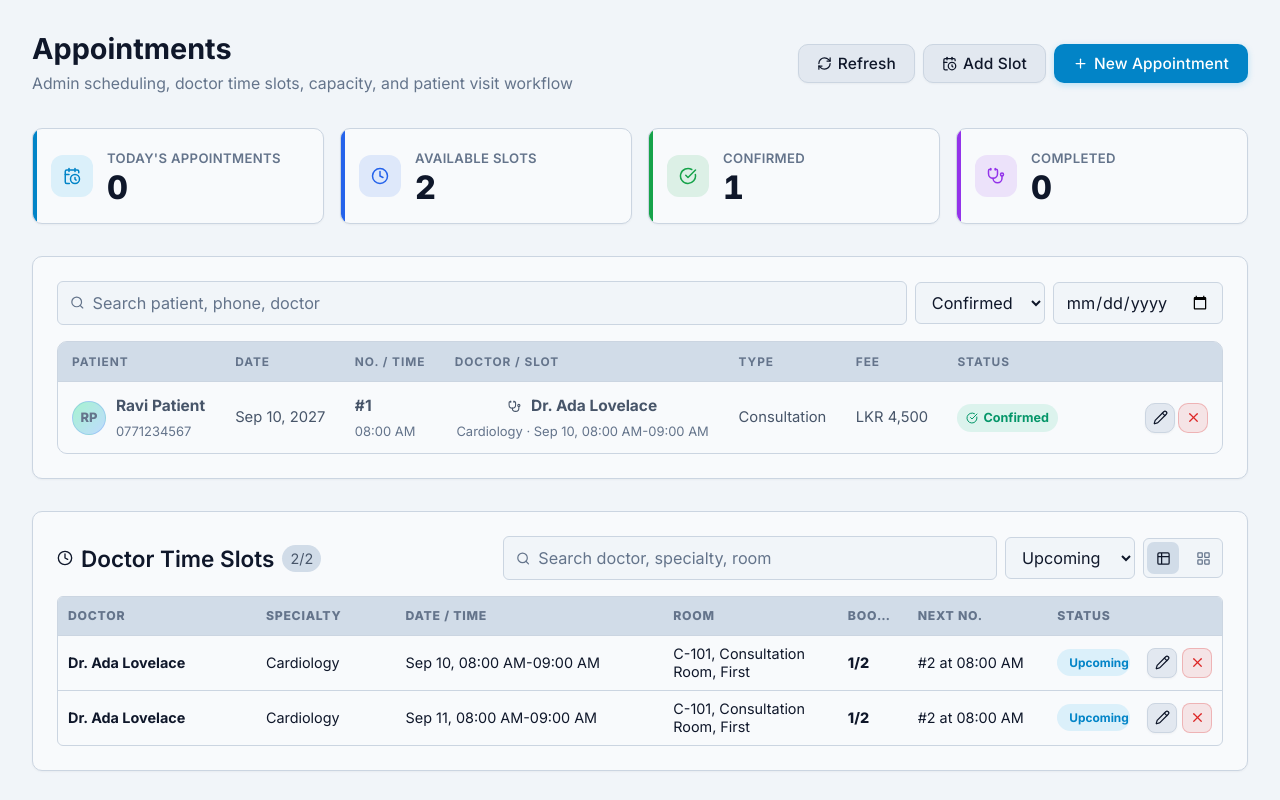
Test: AppointmentsPage › clears the selected session when the date changes
Click the button "New Appointment": (1151, 64) [1054,44,1248,83]
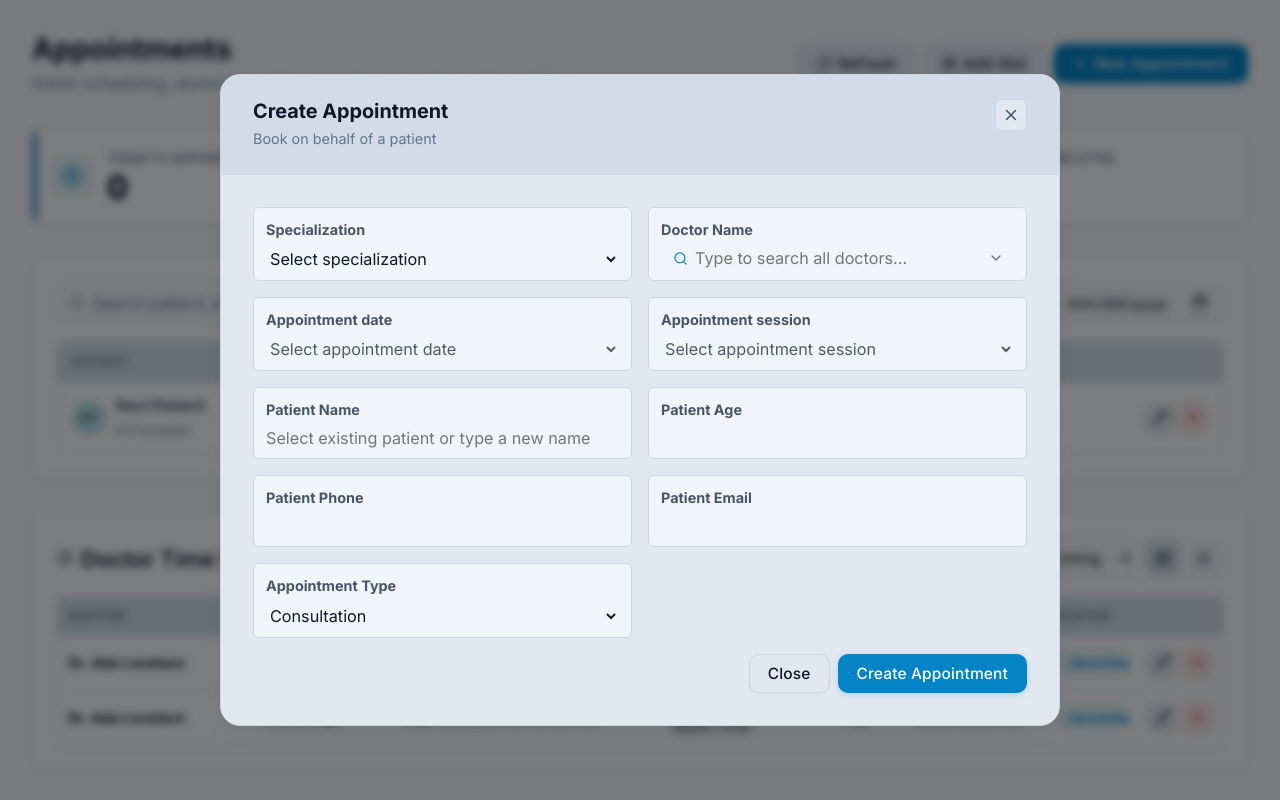
Select "Cardiology" in the dropdown labelled "Specialization": (442, 259) [266,248,619,270]
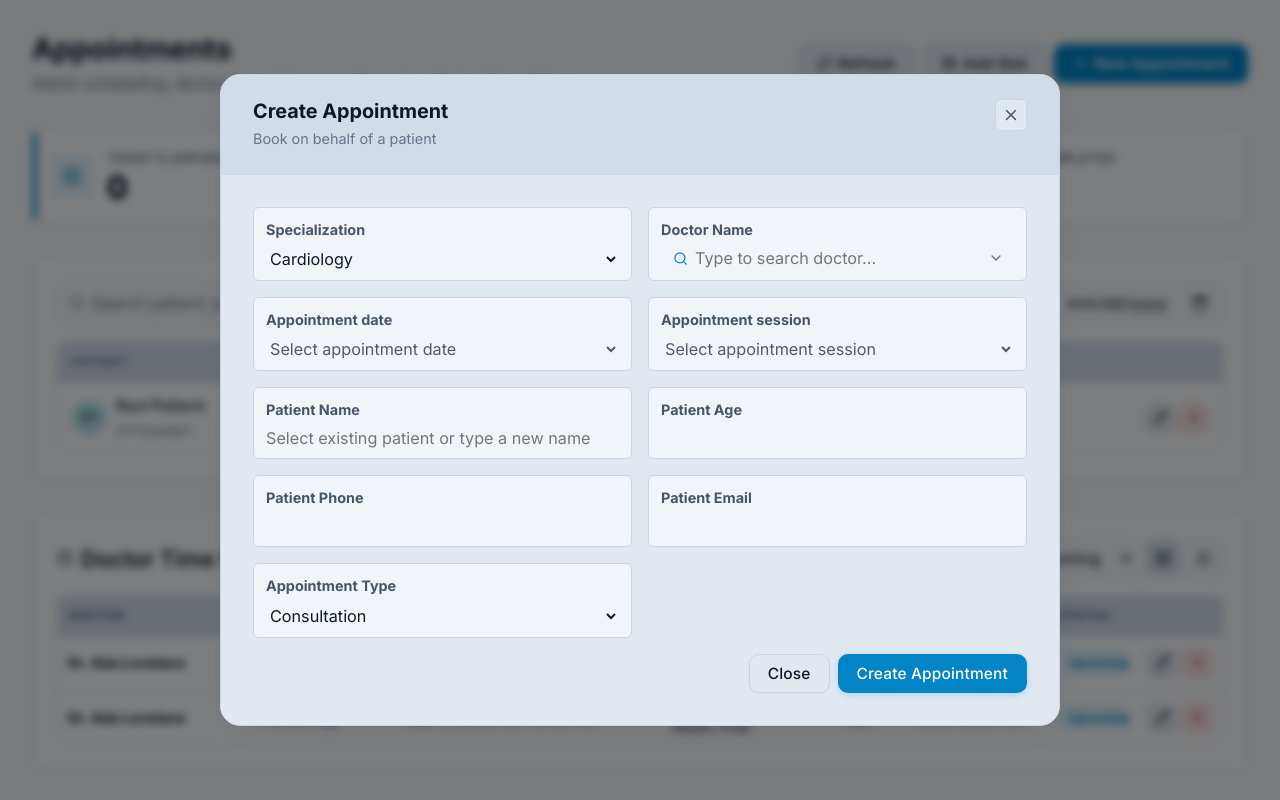
In the field labelled "Doctor Name": (838, 258) [661,248,1014,268], type "Dr. Ada Lovelace"
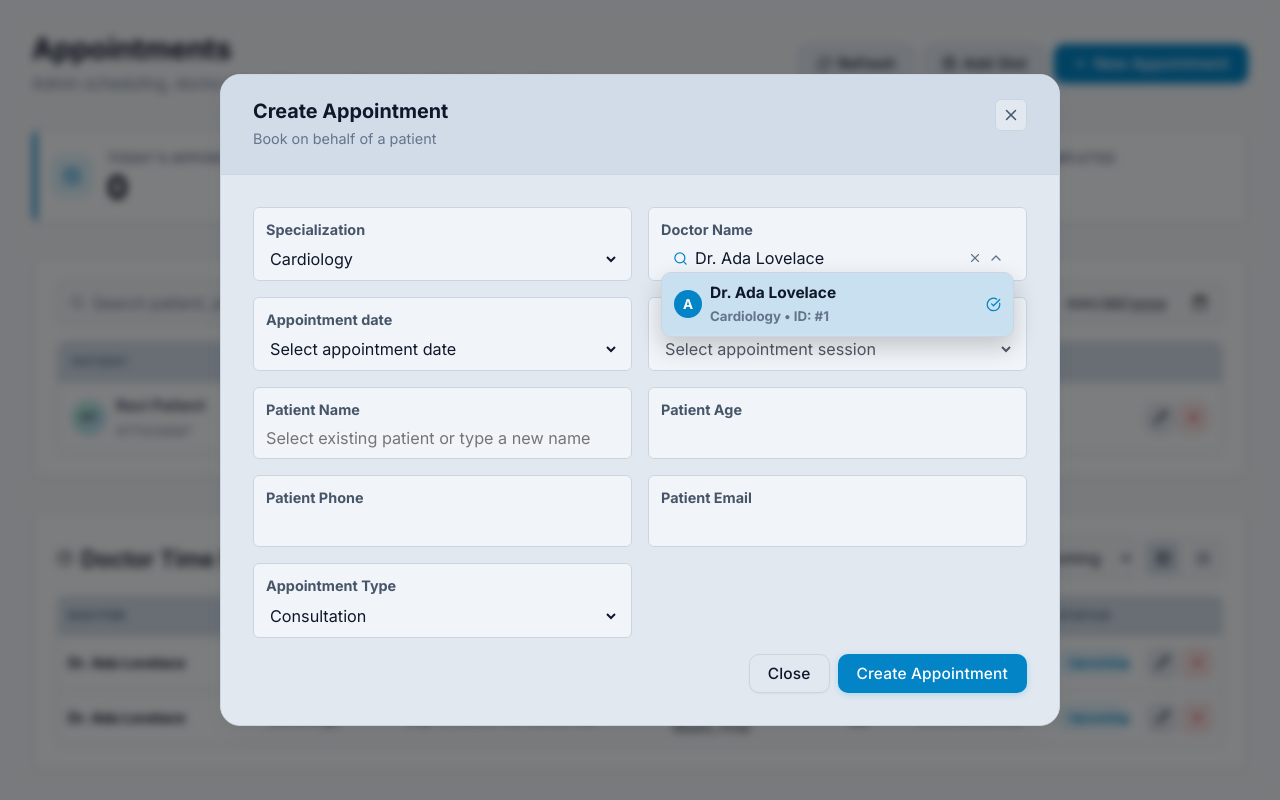
Select "Sep 10, 2027" in the dropdown labelled "Appointment date": (442, 349) [266,338,619,360]
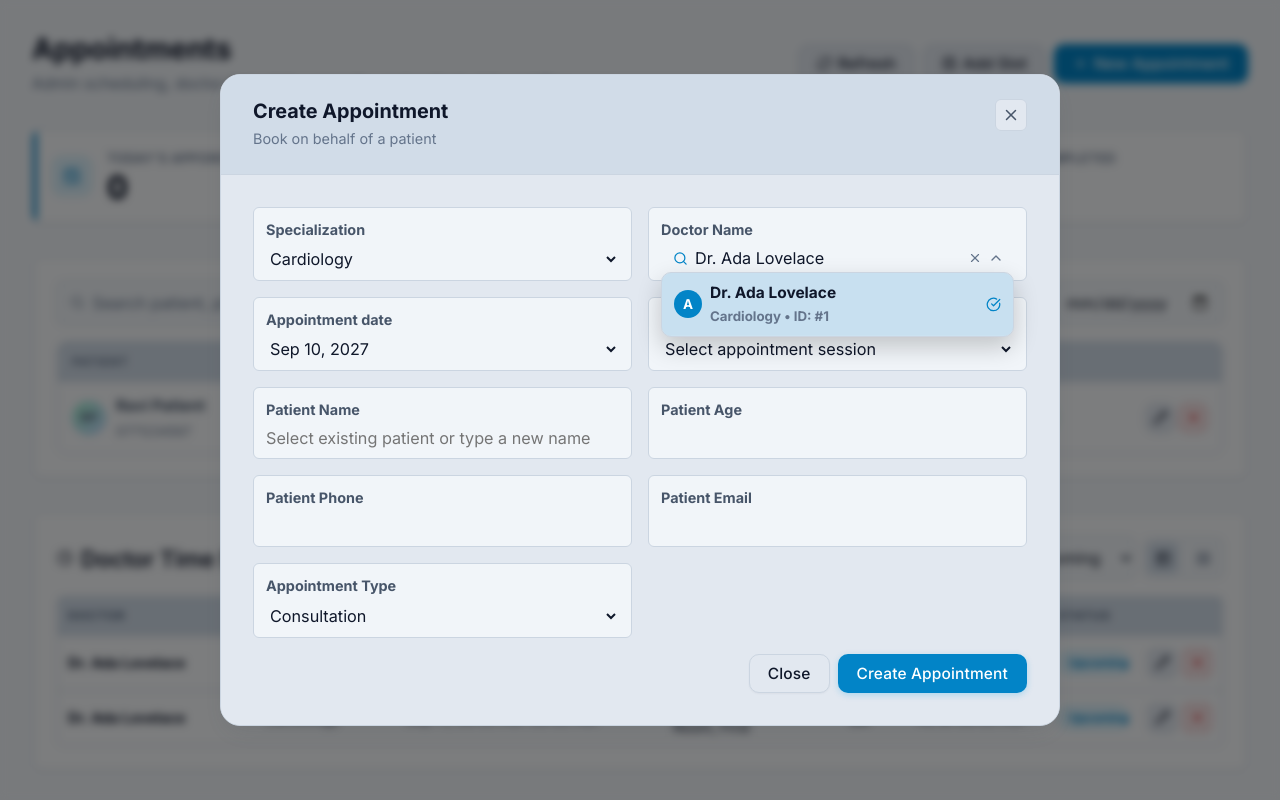
Select "08:00 AM - 09:00 AM" in the dropdown labelled "Appointment session": (838, 349) [661,338,1014,360]
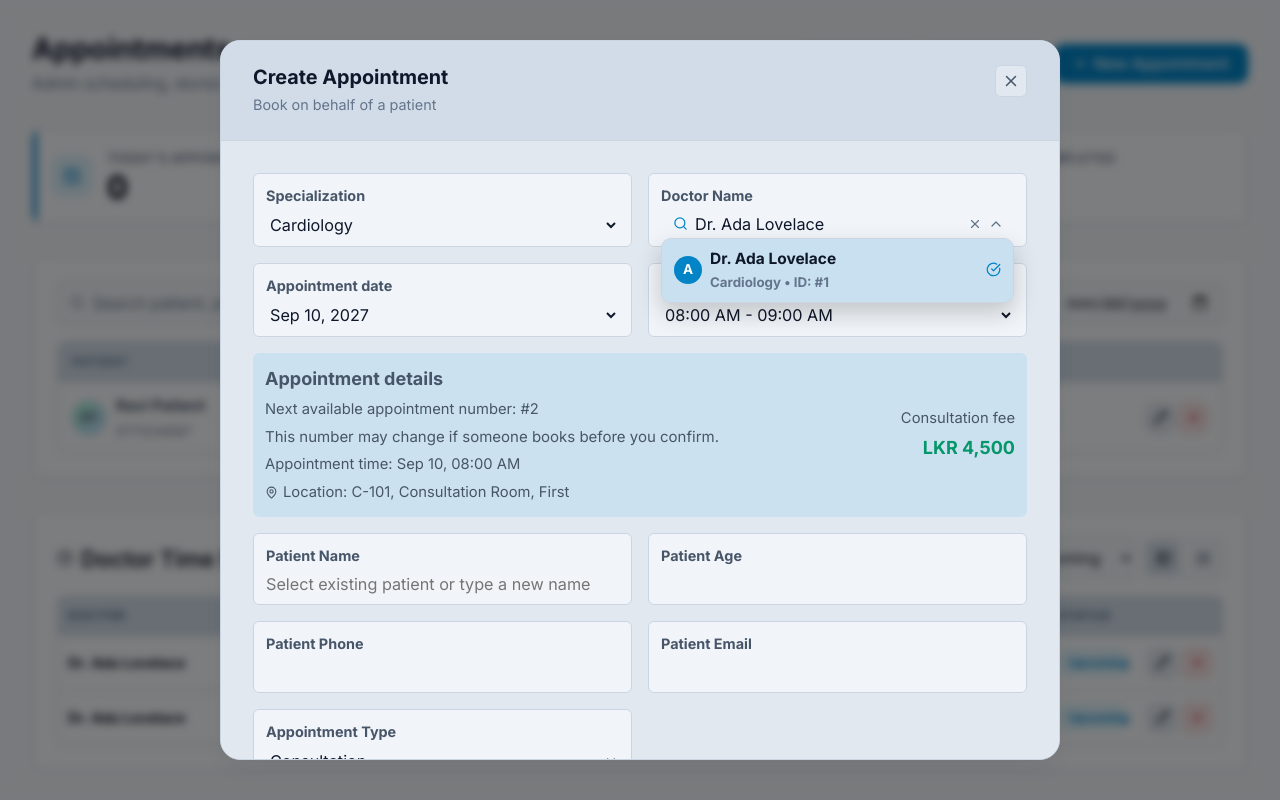
Select "Sep 11, 2027" in the dropdown labelled "Appointment date": (442, 315) [266,304,619,326]
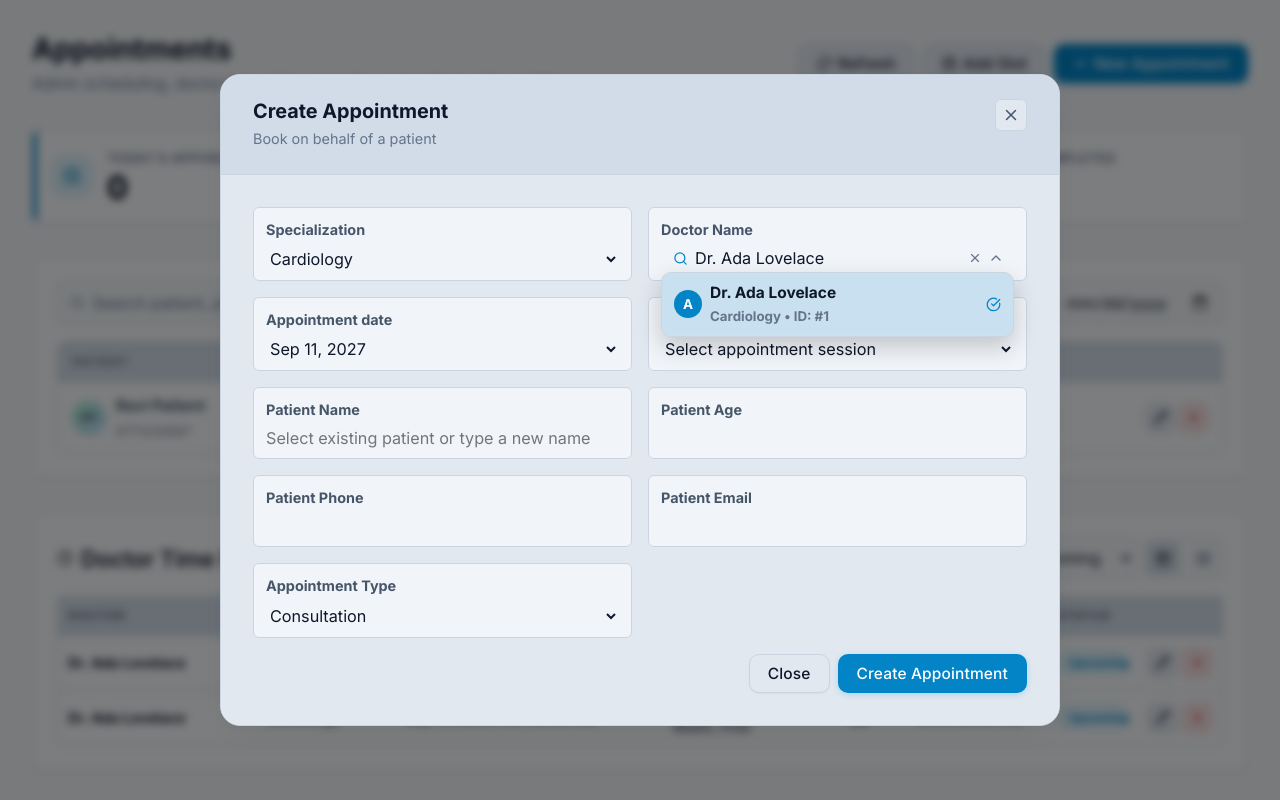
Expected: the text "Next available appointment number:" is gone
